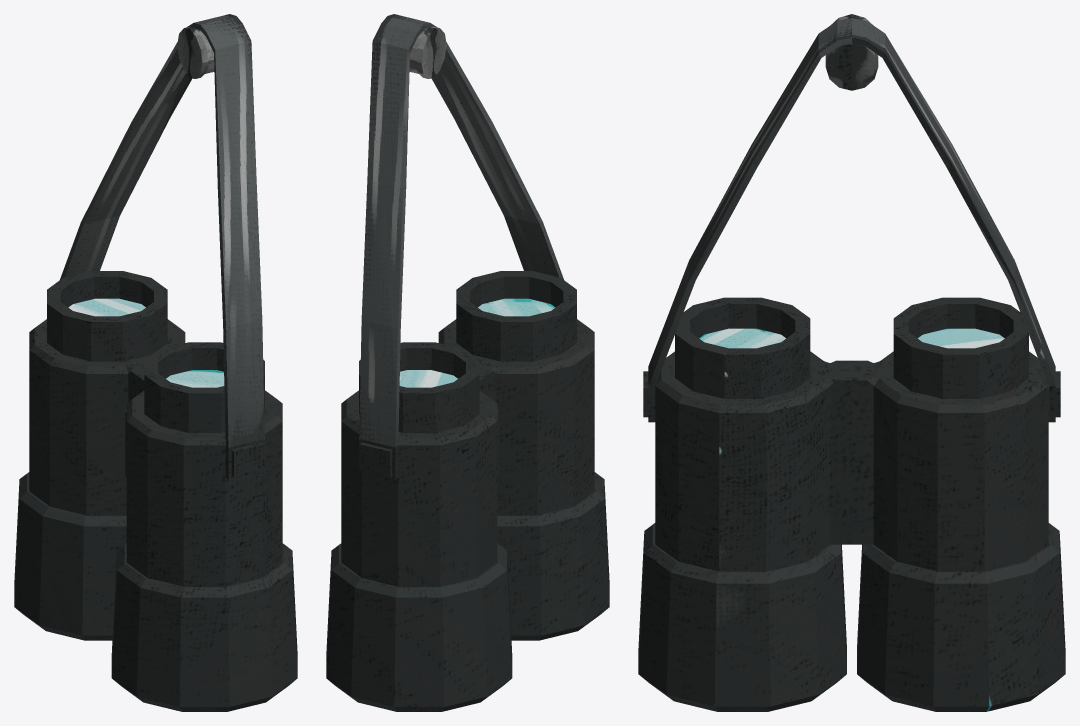
File: kikkert.fbx
The picture shows the model from 3 angles, left to right: view 1: azimuth 30°, elevation 25°; view 2: azimuth 150°, elevation 25°; view 3: azimuth 270°, elevation 25°; orthographic projection. The views are drawn at different scales.
Parts seen in each view (by area): view 1: Cylinder; view 2: Cylinder; view 3: Cylinder.
Part boxes in pixels (x1,y1,x2,y2): Cylinder: (14, 14, 297, 711); Cylinder: (326, 14, 609, 711); Cylinder: (638, 14, 1065, 711).
Size of the model in its own units: 230 by 827 by 472.
1 material, 1 textured.
